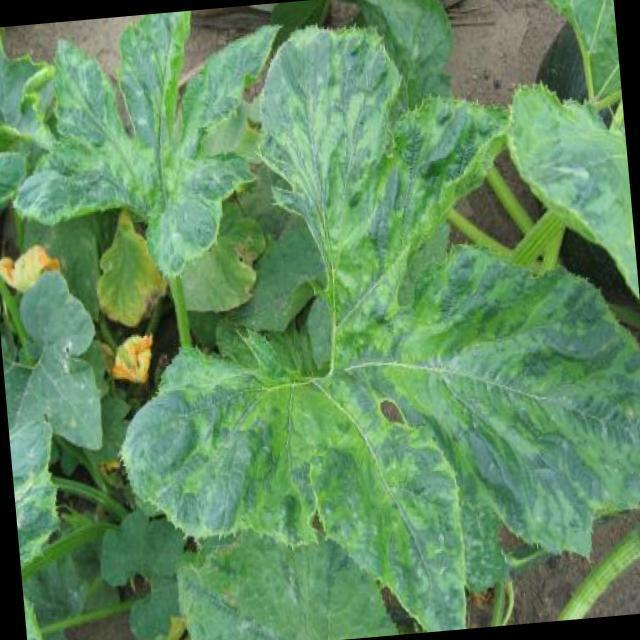Mosaic Virus: (278, 35, 482, 359), (426, 249, 640, 547), (18, 25, 234, 274), (282, 366, 450, 626), (118, 359, 285, 532), (12, 463, 62, 560)
